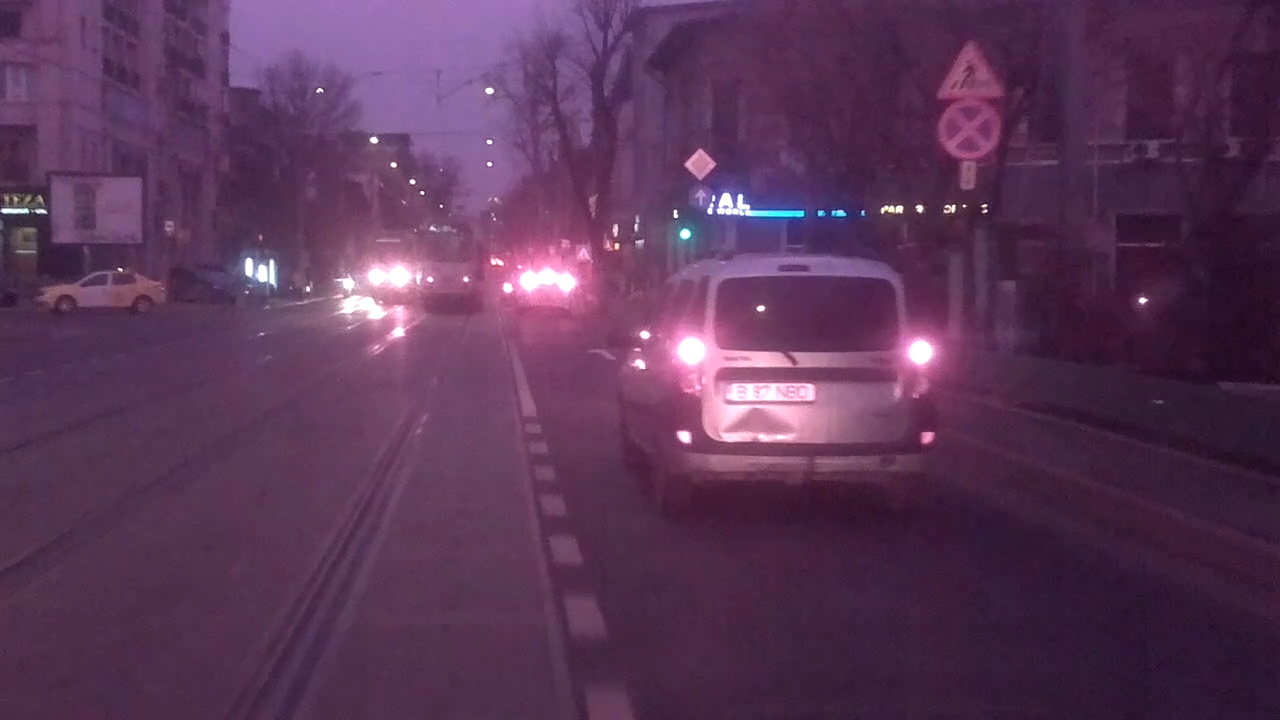license-plate: (721, 379, 820, 405)
